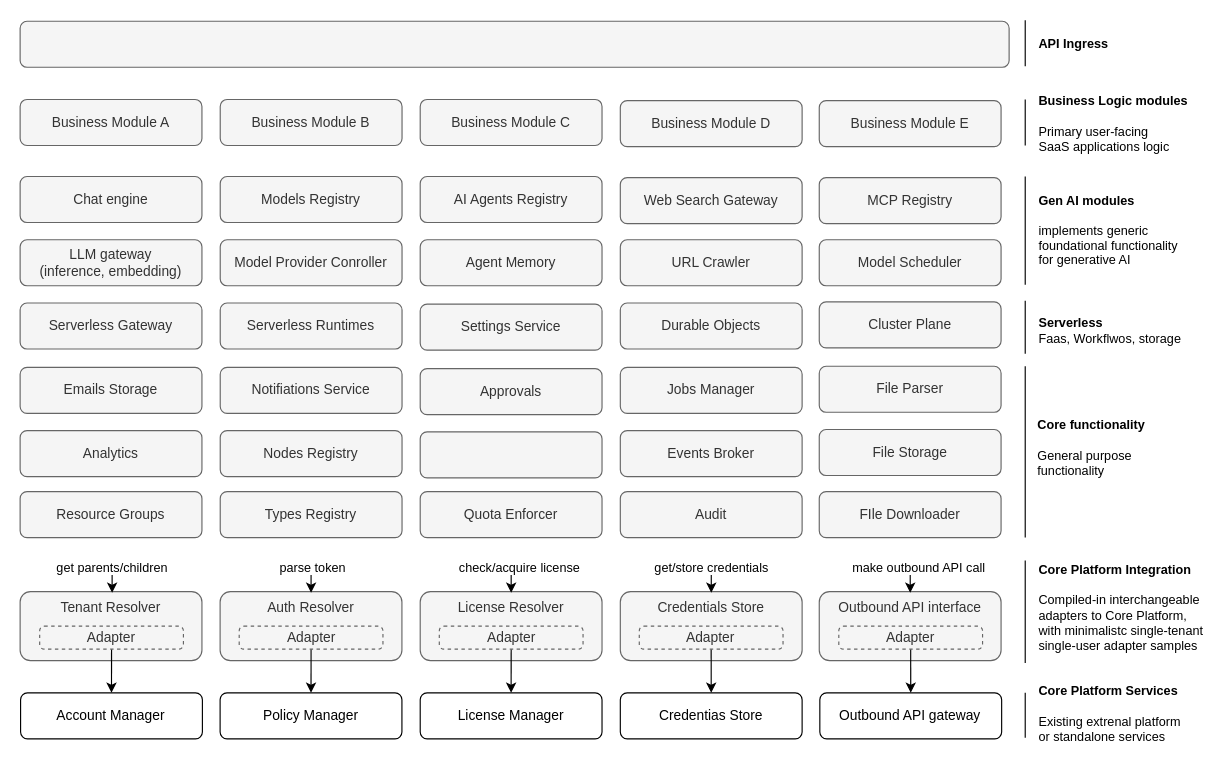
Some shapes in this 1224 by 764 pixel diagram are drawn without their labels. Here are the shapes that lost their labels. From the top down, the box of each, then its label:
(19, 20, 1009, 67): API gateway
(419, 431, 602, 478): Usage Collector
